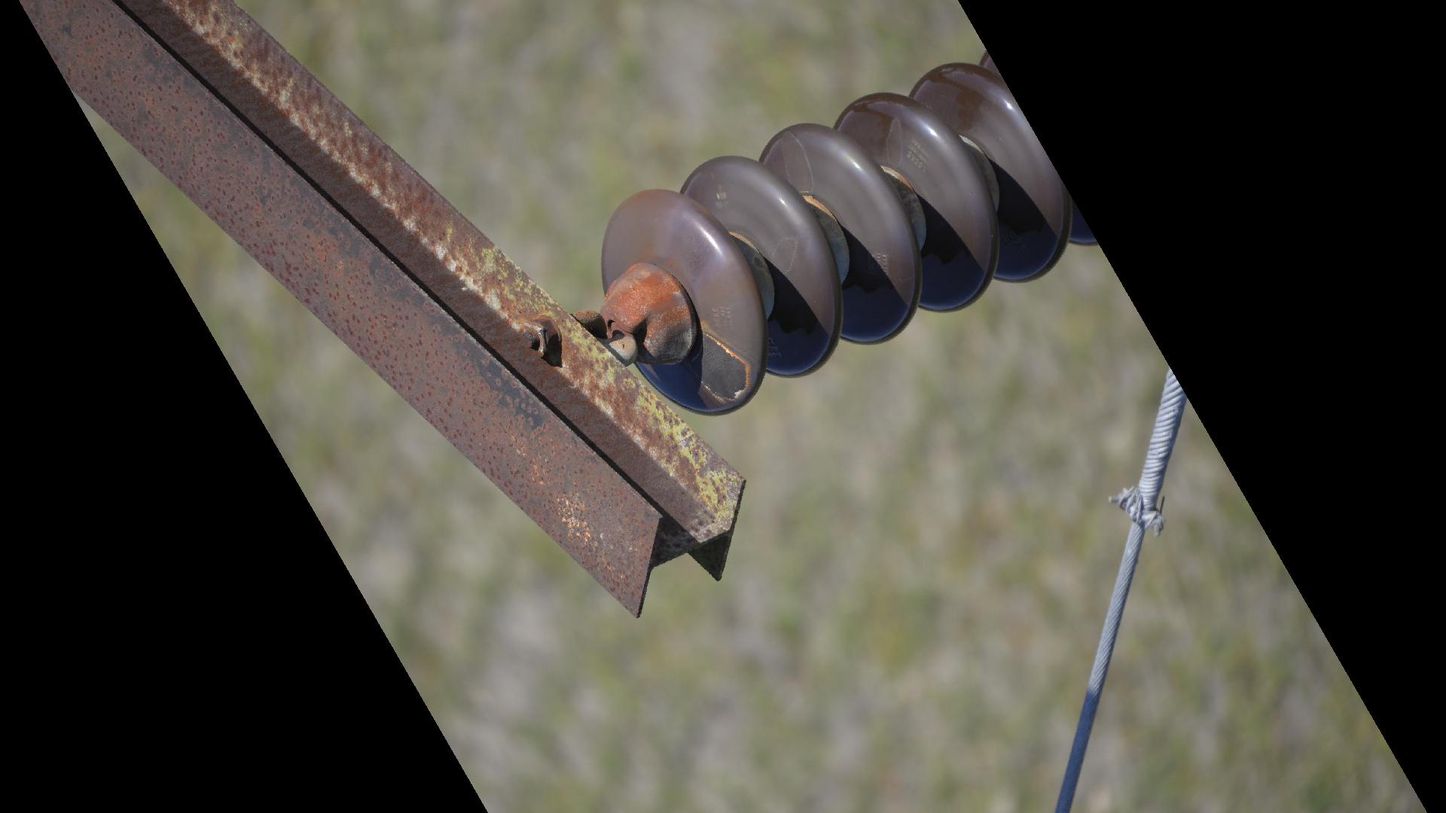insulator: (593, 45, 1103, 424)
insulator_flashover: (689, 329, 755, 406)
